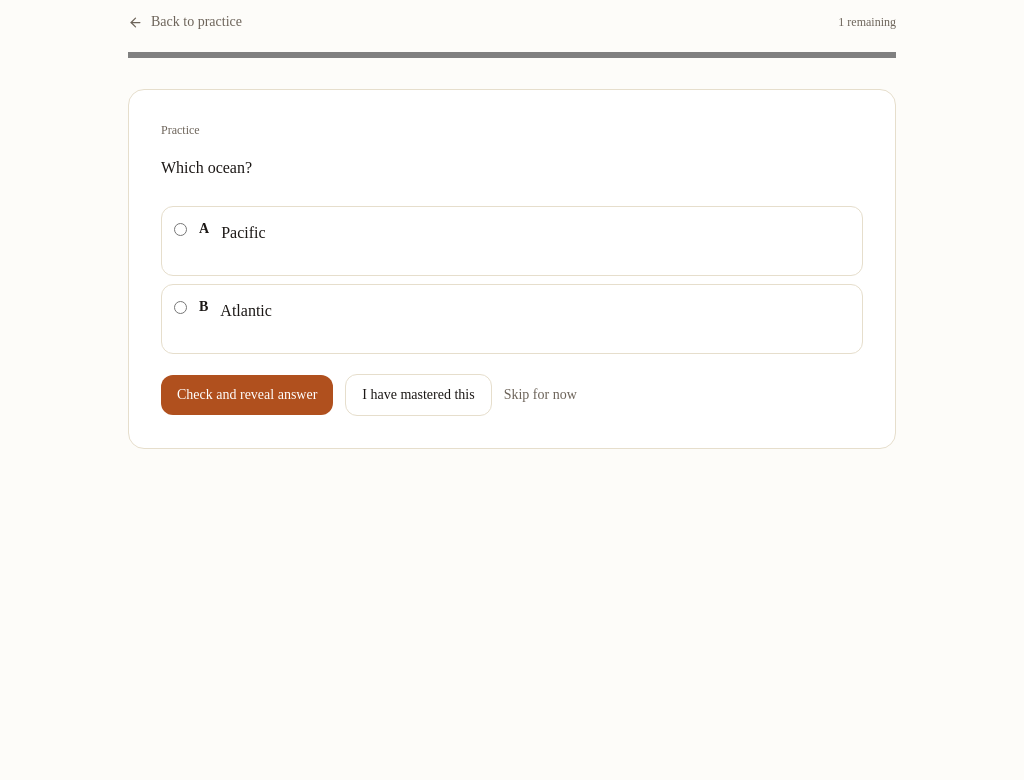
Test: keeps a failed save retryable with the same submission ID
The image size is (1024, 780).
What coordinates should you click on to do the following:
click the radio button labelled "B Atlantic"
I would click on:
 (180, 308)
Its box is top-left (174, 301), bottom-right (187, 314).
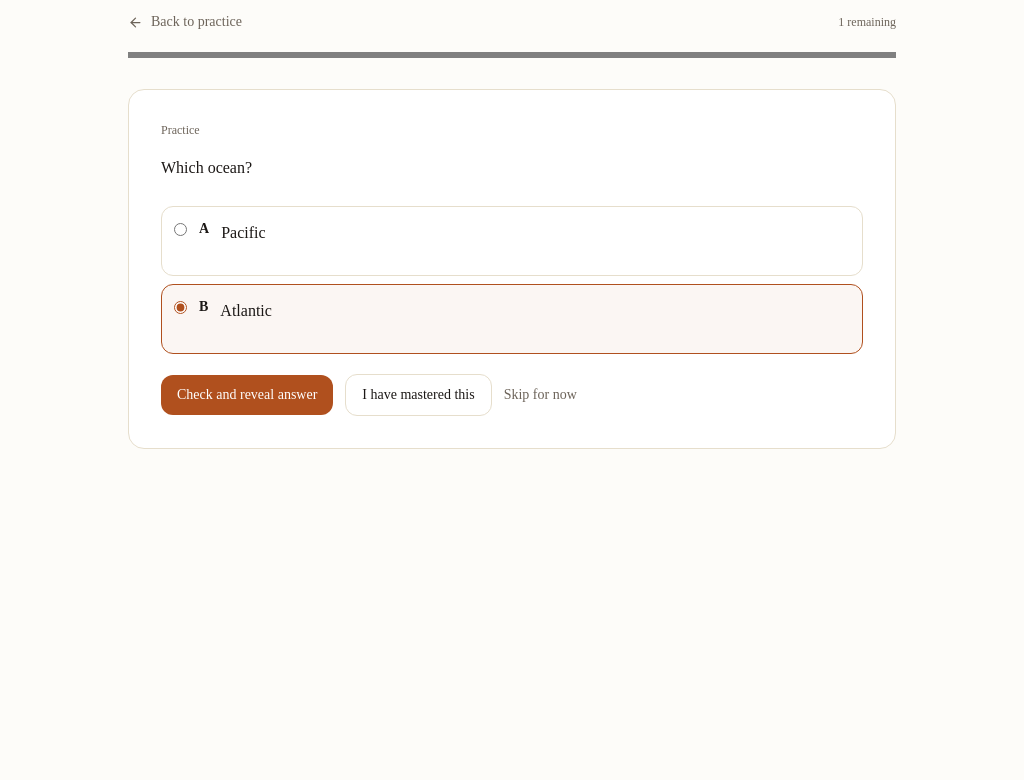
What coordinates should you click on to do the following:
click the button "Check and reveal answer"
I would click on:
 (247, 395)
Its box is top-left (161, 375), bottom-right (333, 415).
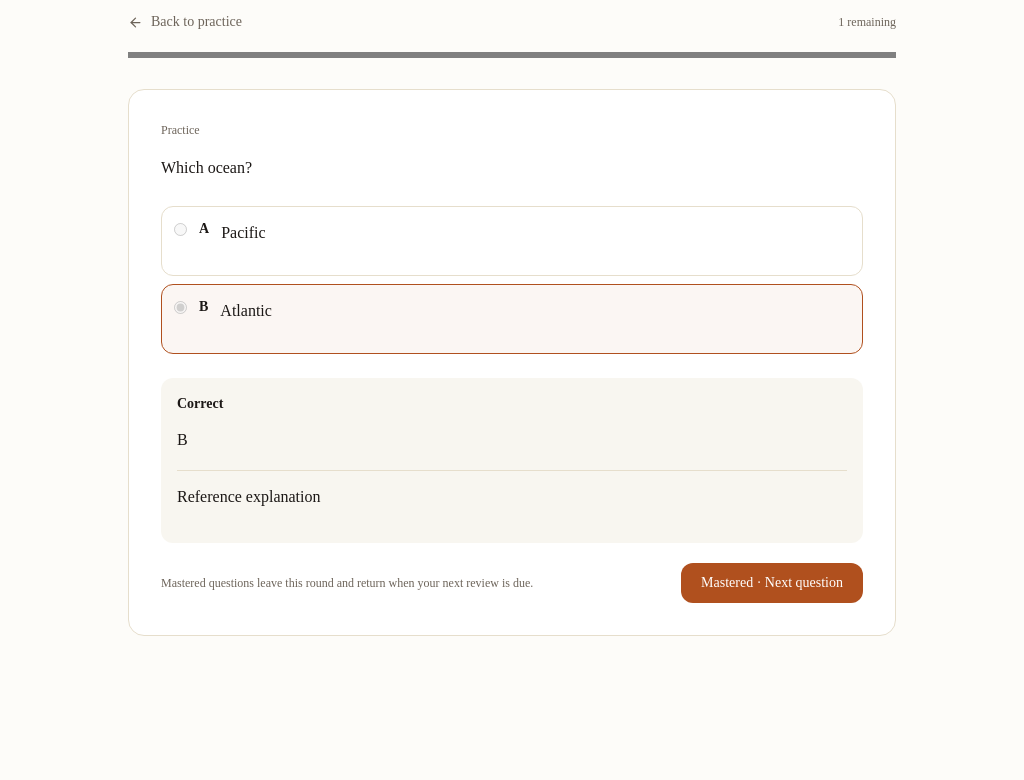
What coordinates should you click on to do the following:
click the button "Mastered · Next question"
I would click on:
 (772, 583)
Its box is top-left (681, 563), bottom-right (863, 603).
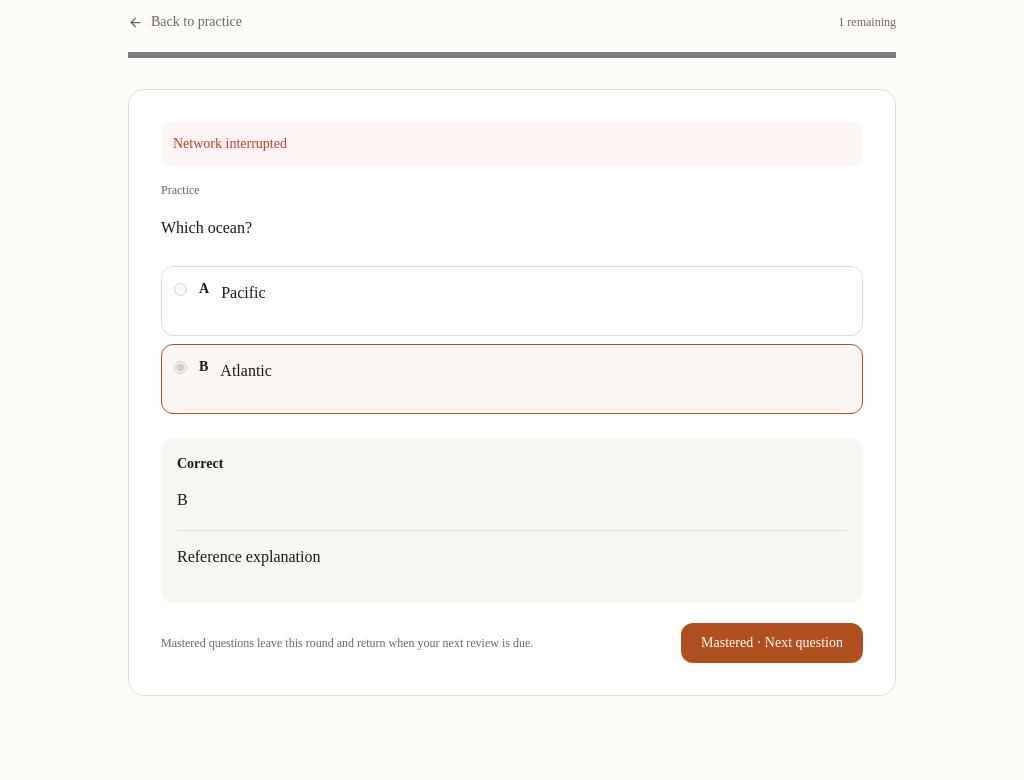
Expected: the text "Practice complete" is not shown
Result: the text "Network interrupted" is shown at top-left (173, 136), bottom-right (287, 151)
What coordinates should you click on to do the following:
click the button "Mastered · Next question"
I would click on:
 (772, 643)
Its box is top-left (681, 623), bottom-right (863, 663).
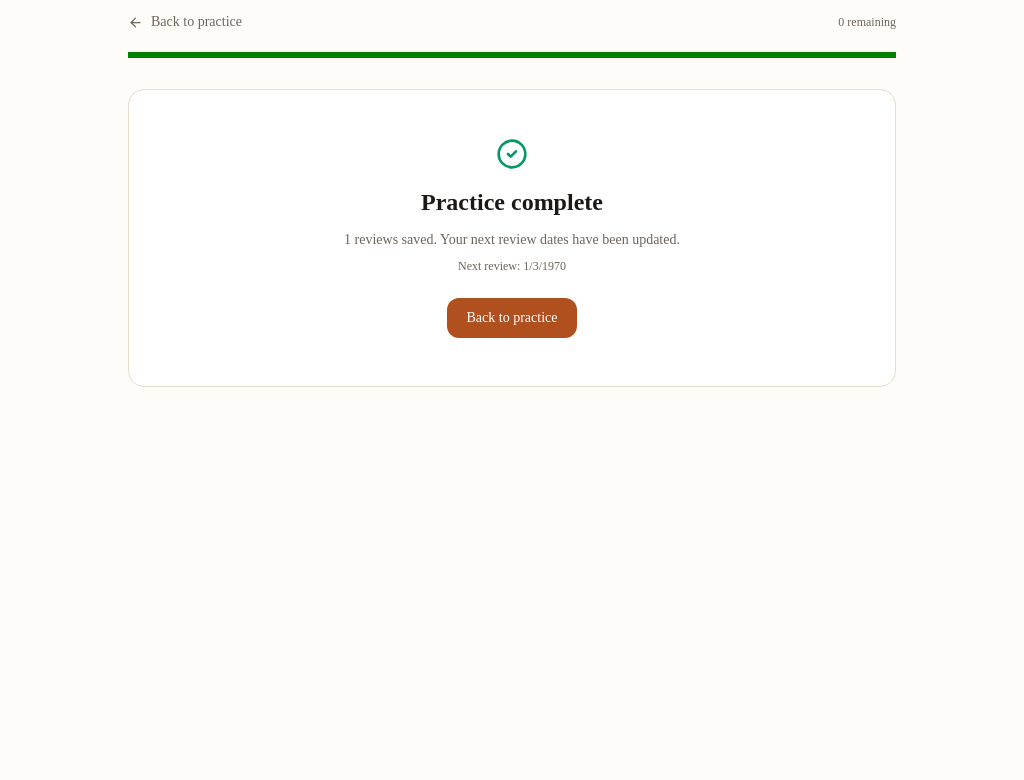
Result: the heading "Practice complete" is shown at top-left (421, 189), bottom-right (603, 215)
